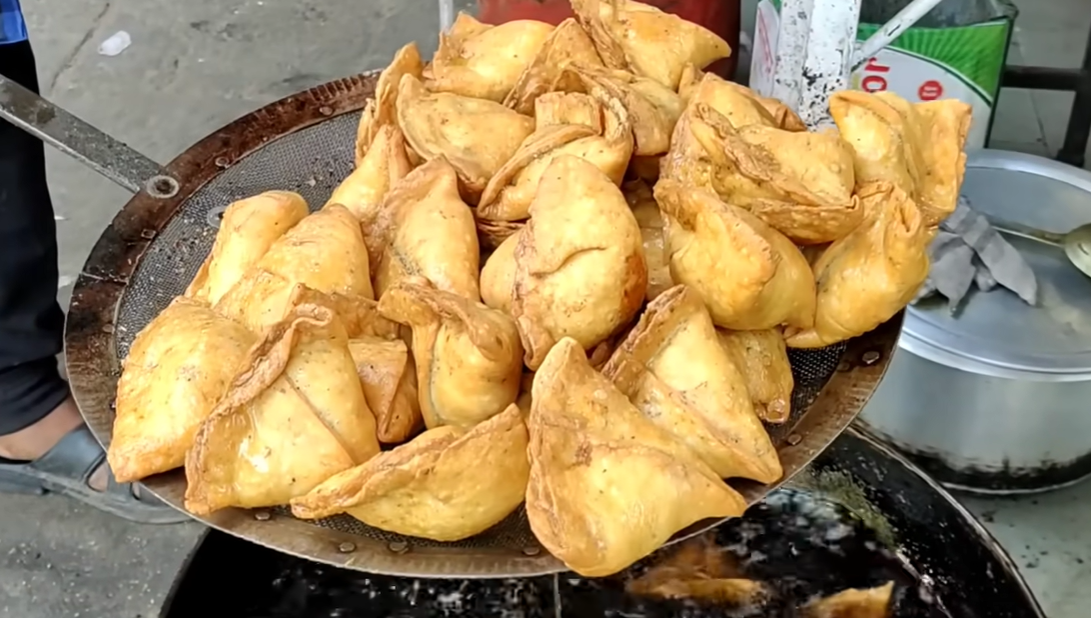samosa: (530, 336, 746, 576), (603, 284, 791, 493), (177, 309, 350, 519), (290, 397, 533, 537), (504, 149, 639, 360), (650, 176, 829, 333), (789, 186, 934, 350), (829, 89, 970, 231), (216, 194, 369, 323), (359, 151, 469, 297), (561, 0, 741, 89), (434, 1, 563, 96)
